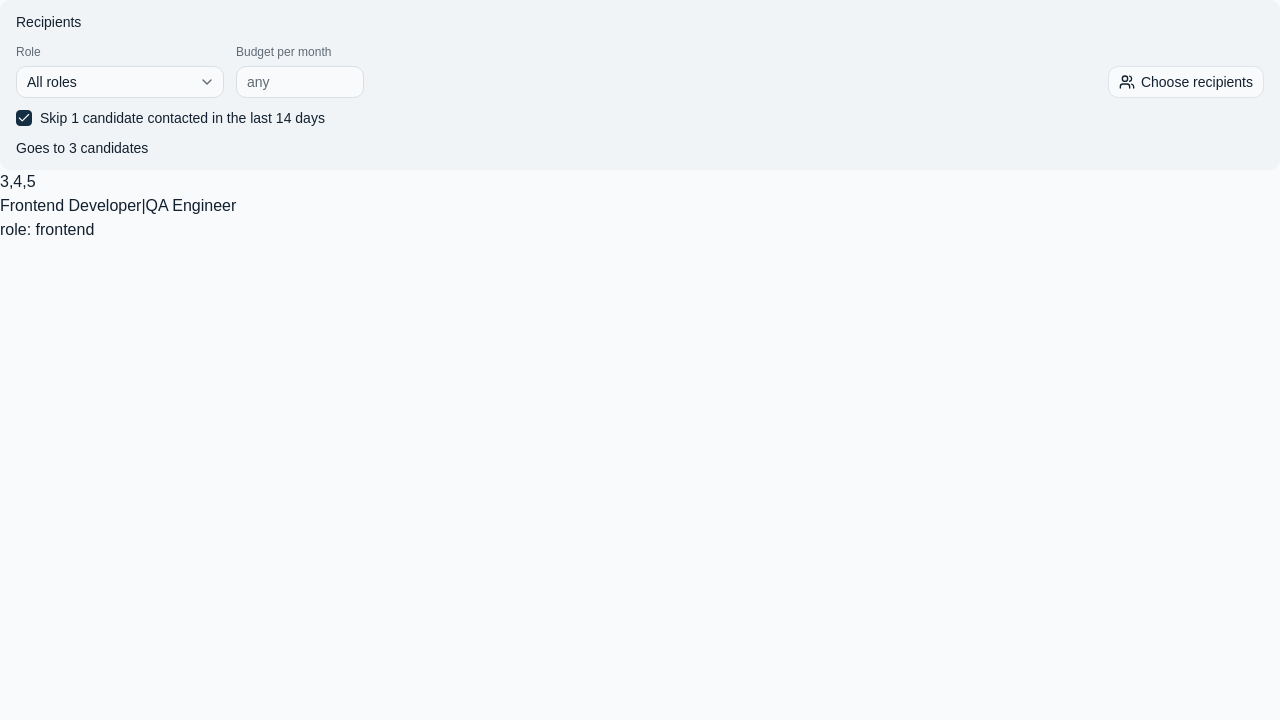
RecipientsPicker › asks for at least one candidate when everybody is unchecked
Click the button "Choose recipients" at (1186, 82), box [1108,66,1264,98]
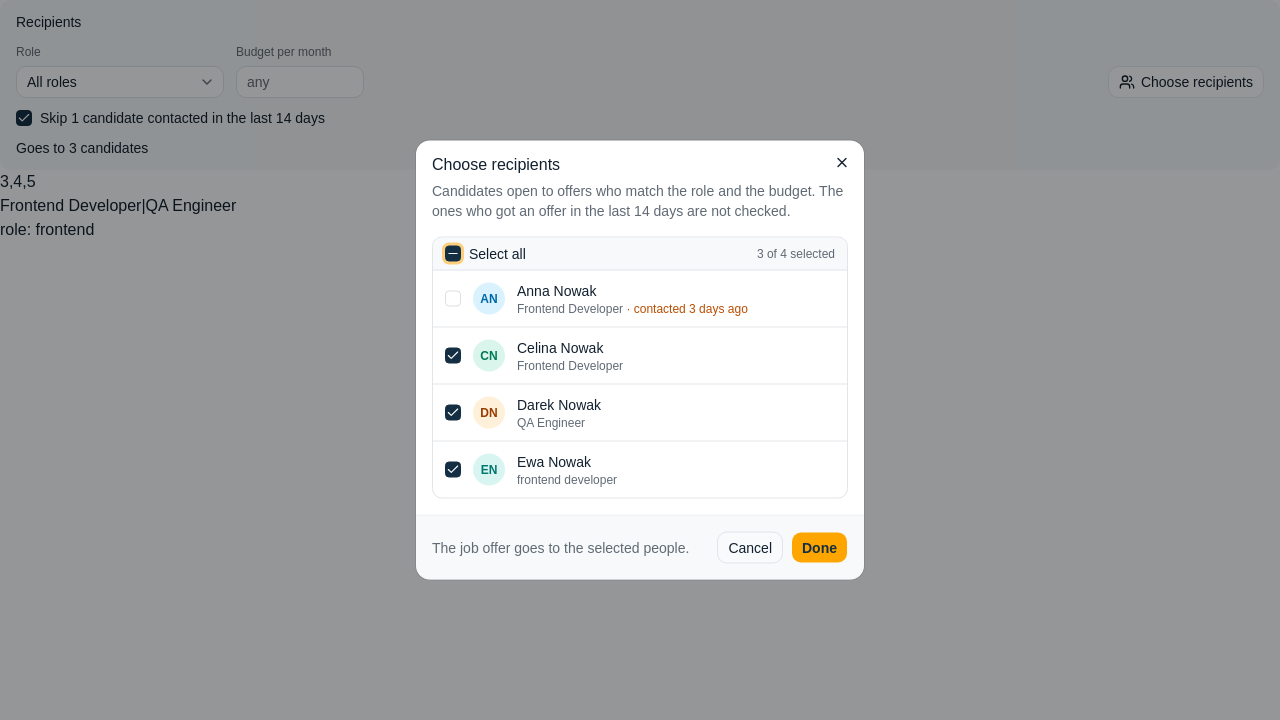
some are checked - "select all" checks everybody, then unchecks everybody
Click the checkbox named "Select all" next to "Select all" at (453, 254), box [445,246,461,262]
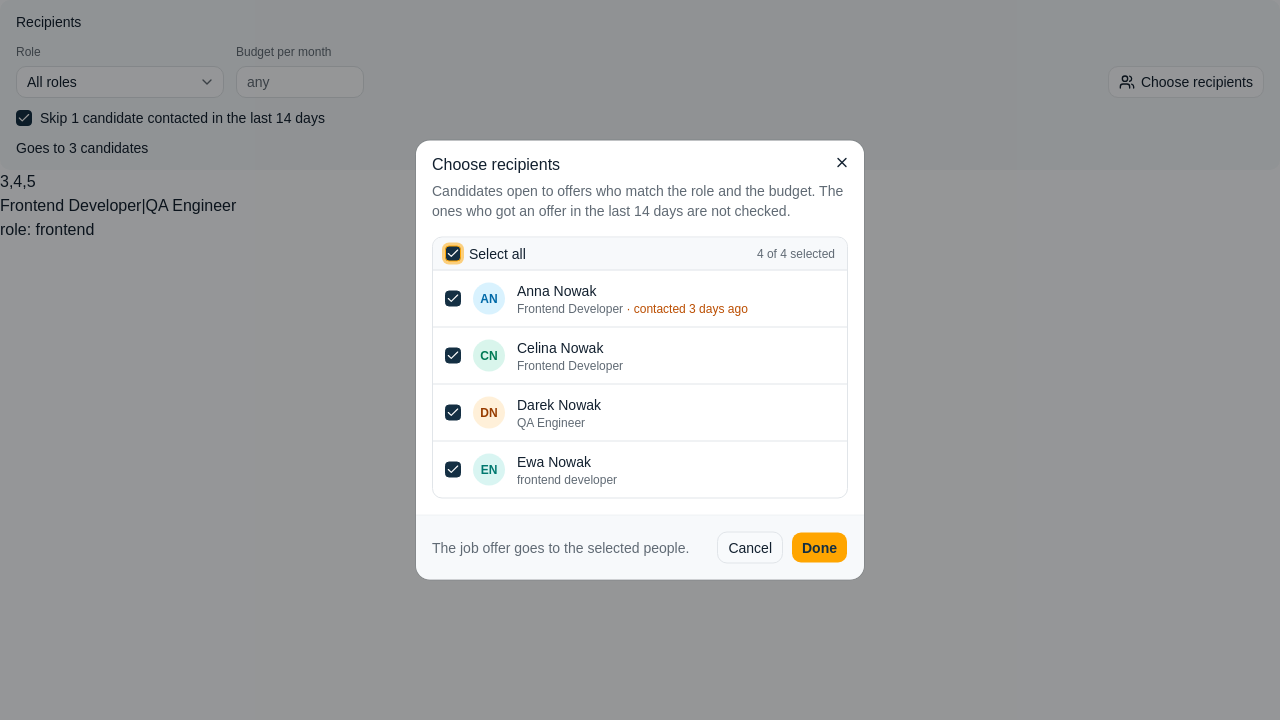
expect the text "4 of 4 selected" is shown: met, box [757,246,835,262]
Click the checkbox named "Select all" next to "Select all" at (453, 254), box [445,246,461,262]
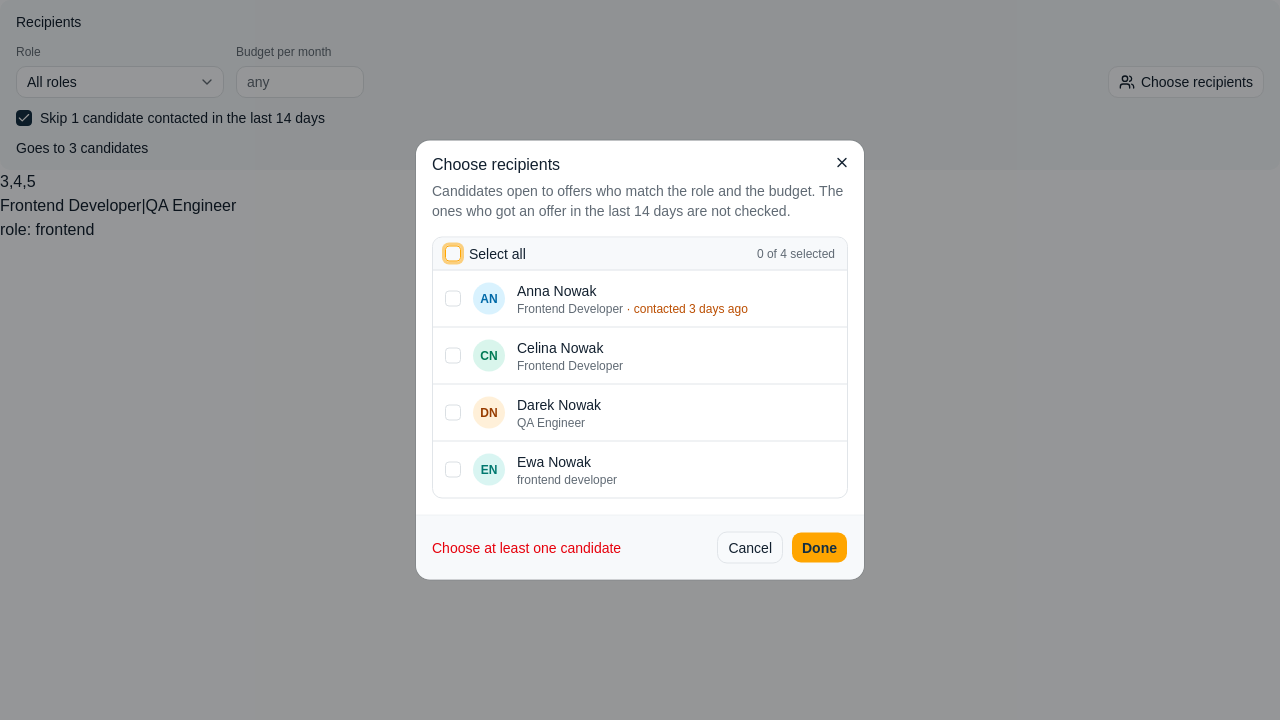
expect the text "Choose at least one candidate" is shown: met, box [432,538,621,558]
Click the button "Done" at (820, 548), box [791,532,848,564]
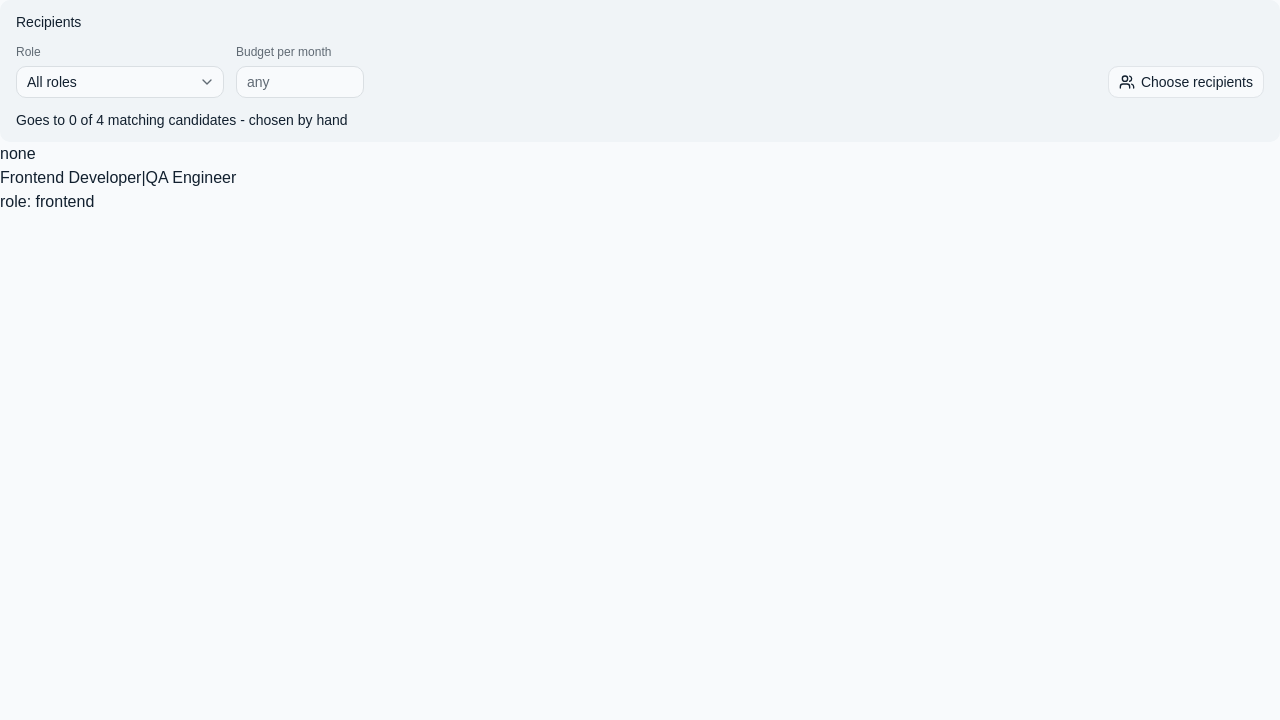
expect the text with test id "receivers" reads "none": met, box [0,145,36,162]
